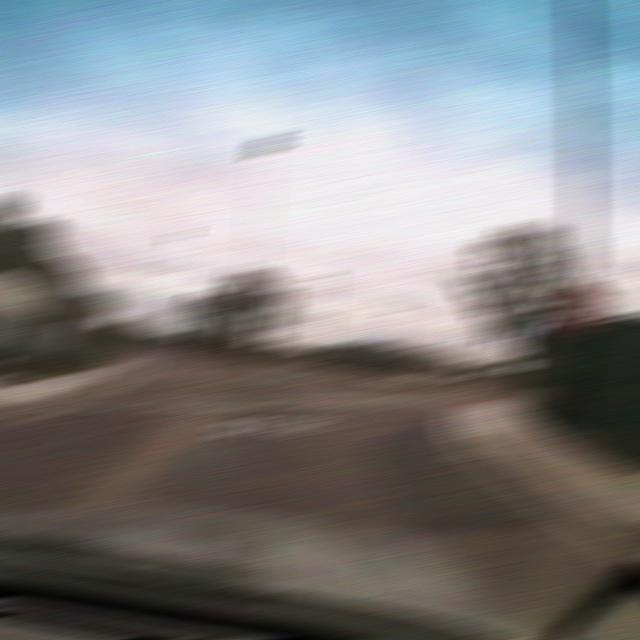stop_sign: (554, 281, 607, 331)
